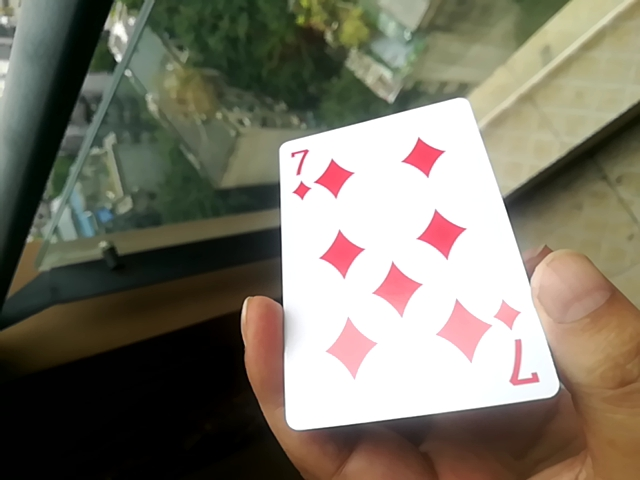fk 7: (276, 101, 548, 442)
